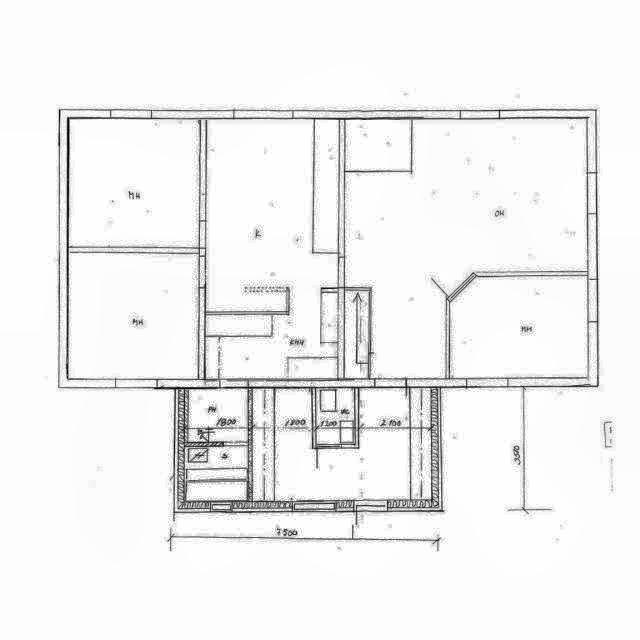room: (69, 119, 200, 248), (68, 252, 199, 379), (449, 276, 588, 379), (185, 446, 249, 501), (188, 388, 248, 442), (315, 388, 356, 444)
